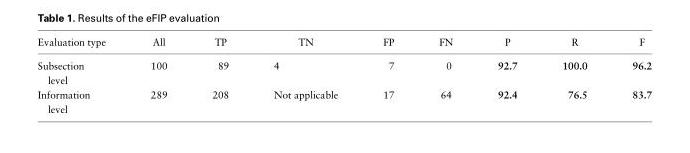table: (36, 36, 651, 114)
table column: (250, 36, 359, 114), (36, 36, 127, 114), (539, 36, 609, 114), (474, 36, 539, 114), (188, 36, 250, 114), (127, 36, 188, 114), (415, 36, 474, 114), (359, 36, 415, 114), (609, 36, 651, 114)
table column header: (36, 36, 651, 53)
table row: (36, 53, 651, 87), (36, 87, 651, 114), (36, 36, 651, 53)
